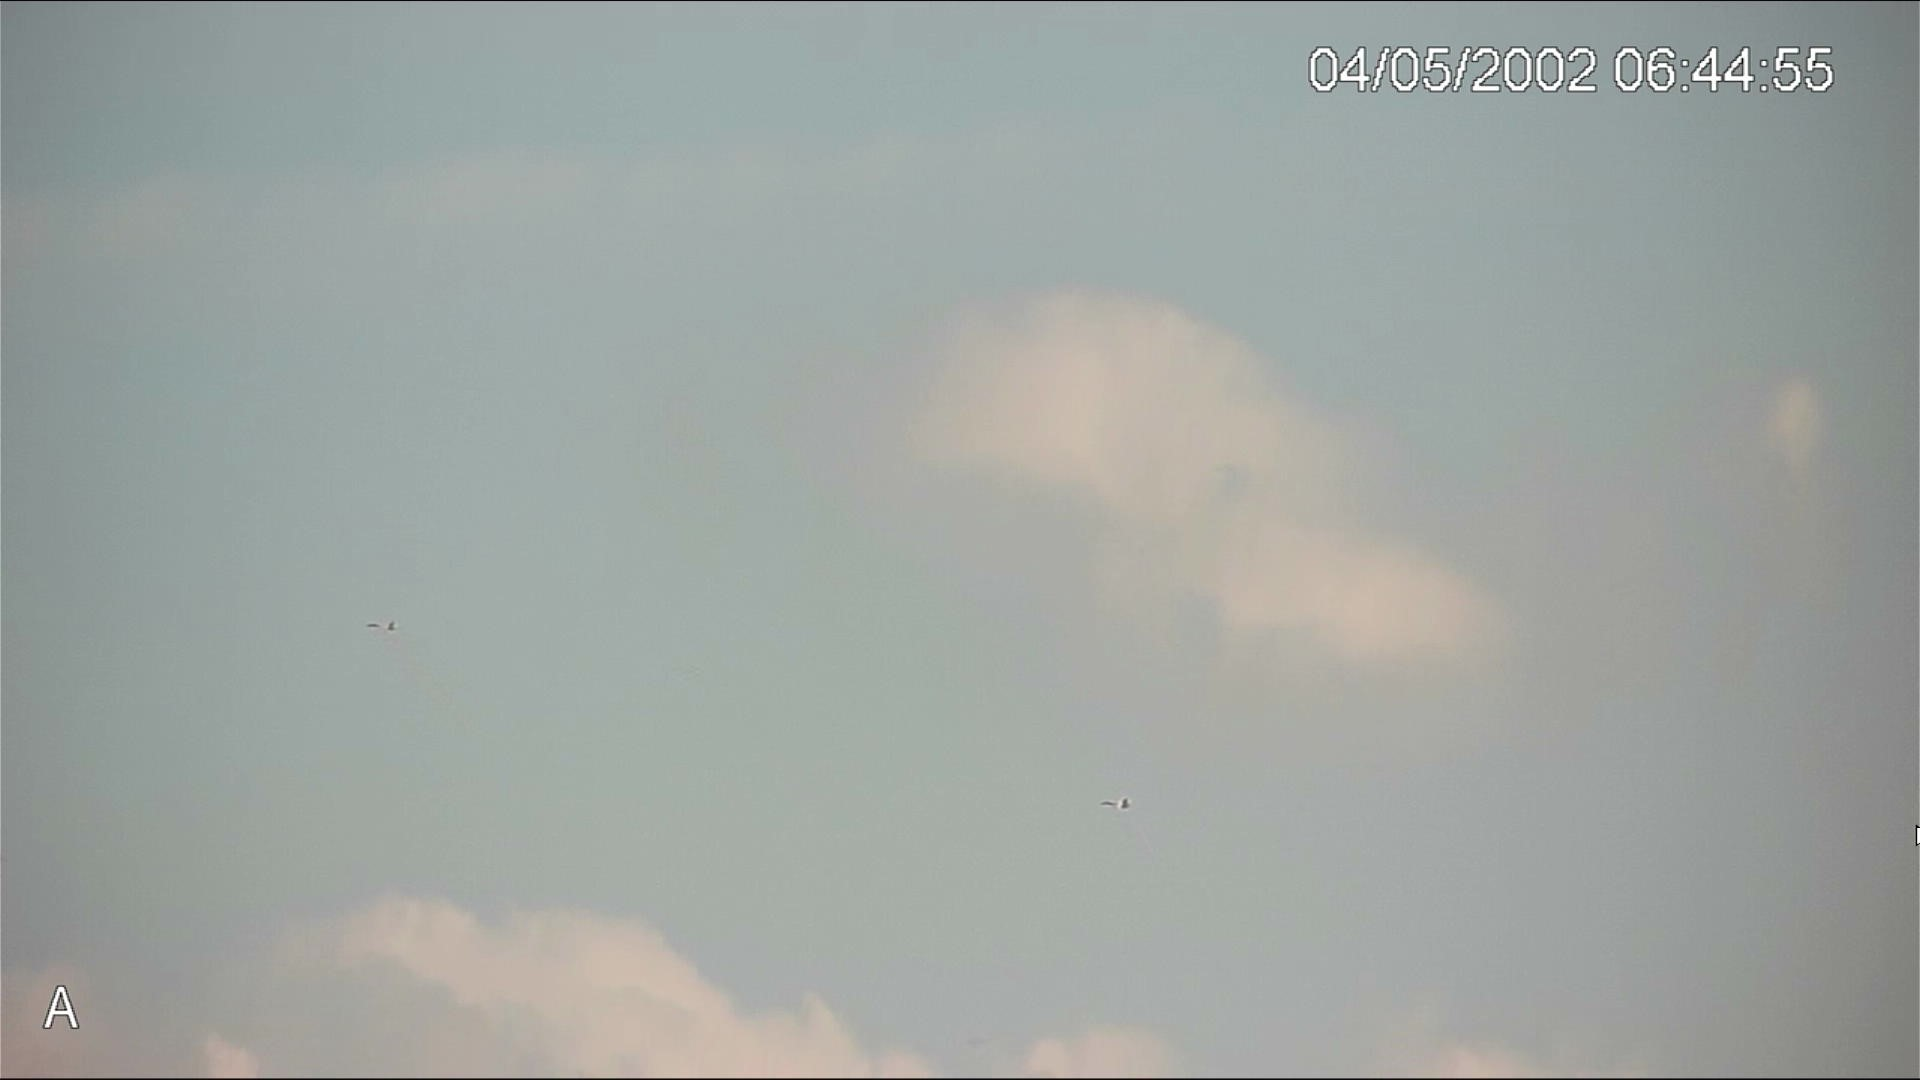SU_30: (363, 616, 402, 636), (1098, 795, 1130, 811)
